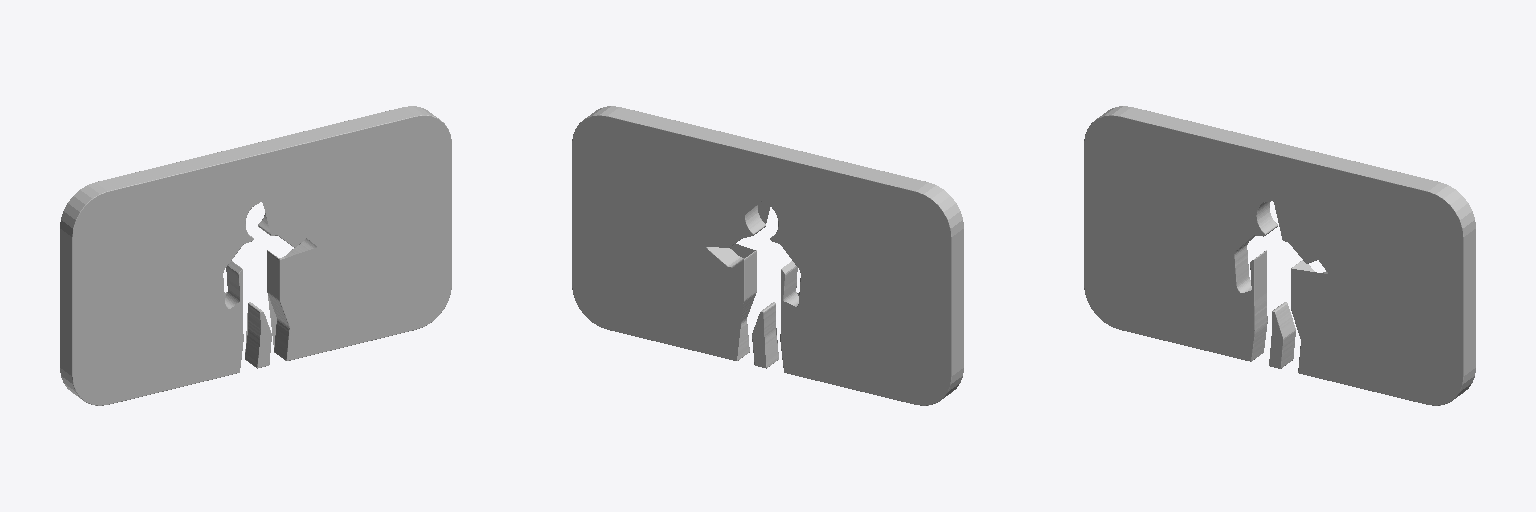
3 views of the same model, side by side, from view 1: azimuth 30°, elevation 25°; view 2: azimuth 150°, elevation 25°; view 3: azimuth 330°, elevation 25° (orthographic).
Visible parts, largest first — view 1: POSE26; view 2: POSE26; view 3: POSE26.
Part boxes in pixels (bbox=[...]): POSE26: bbox=[60, 106, 451, 405]; POSE26: bbox=[572, 106, 963, 405]; POSE26: bbox=[1084, 106, 1475, 405].
Bounding box in the file's own units: 12 × 6.45 × 0.7.